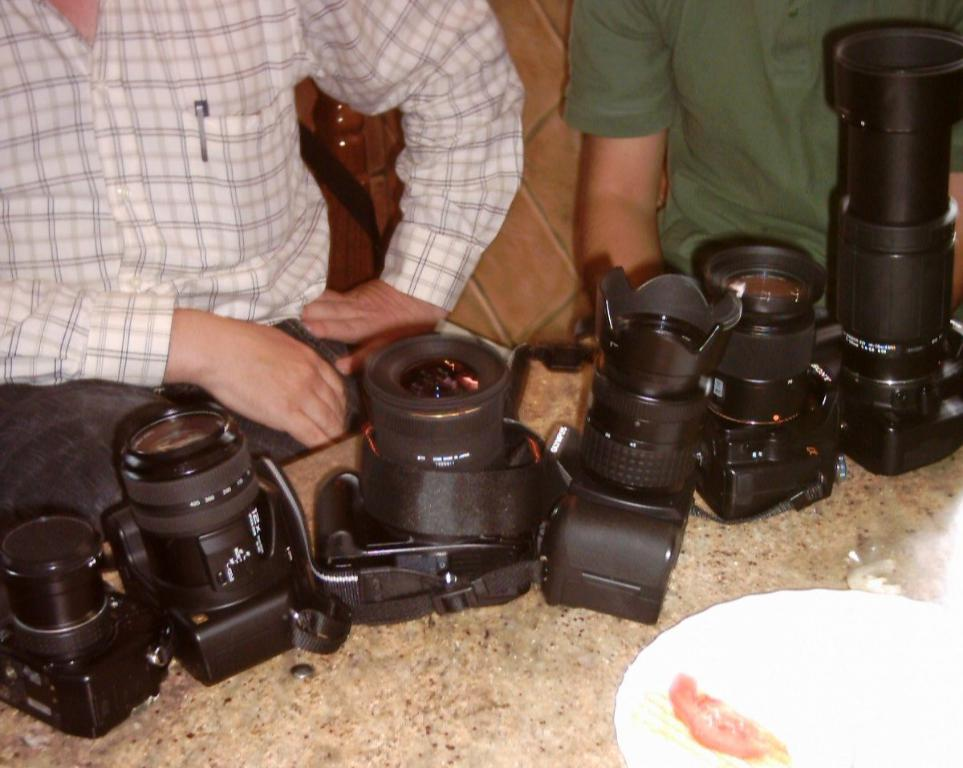Person: (0, 0, 524, 537), (563, 0, 963, 303)
